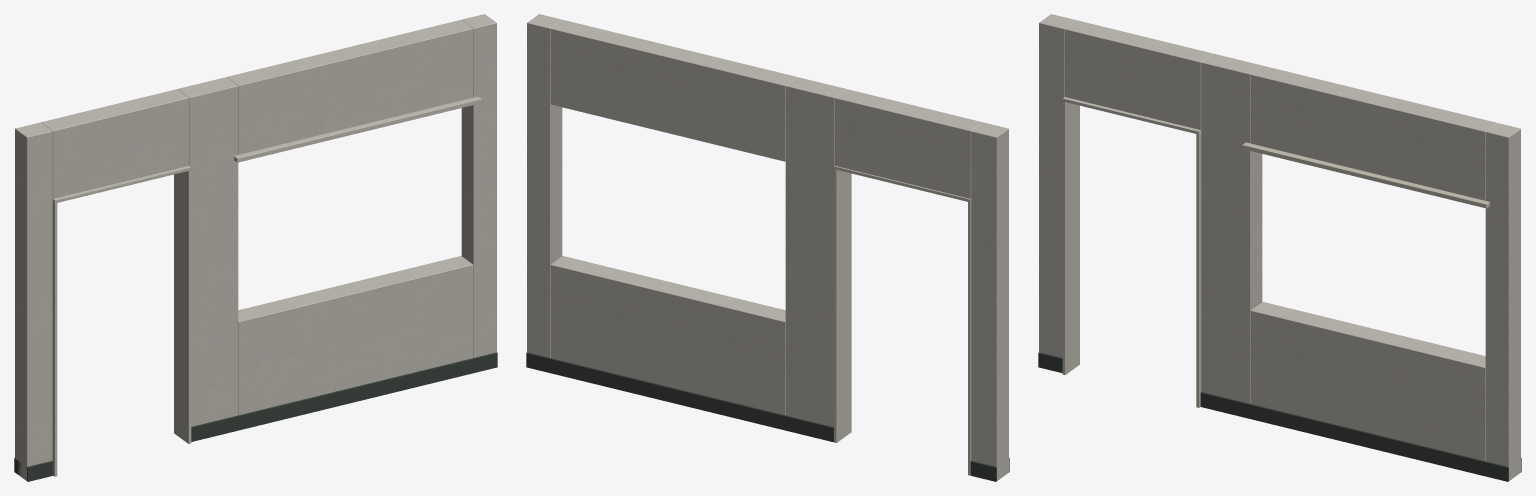
File: room_facade_4m_candidate.glb
3 views of the same model, side by side, from view 1: azimuth 30°, elevation 25°; view 2: azimuth 150°, elevation 25°; view 3: azimuth 330°, elevation 25° (orthographic).
Visible parts, largest first — view 1: INSTANCE__room_facade_4m__012; view 2: INSTANCE__room_facade_4m__012; view 3: INSTANCE__room_facade_4m__012.
Part boxes in pixels (box(x1,y1,x2,y2)): INSTANCE__room_facade_4m__012: box(14, 14, 497, 481); INSTANCE__room_facade_4m__012: box(526, 14, 1009, 481); INSTANCE__room_facade_4m__012: box(1038, 14, 1521, 481).
Bounding box in the file's own units: 4 × 2.8 × 0.24.
3 materials, 1 textured.
